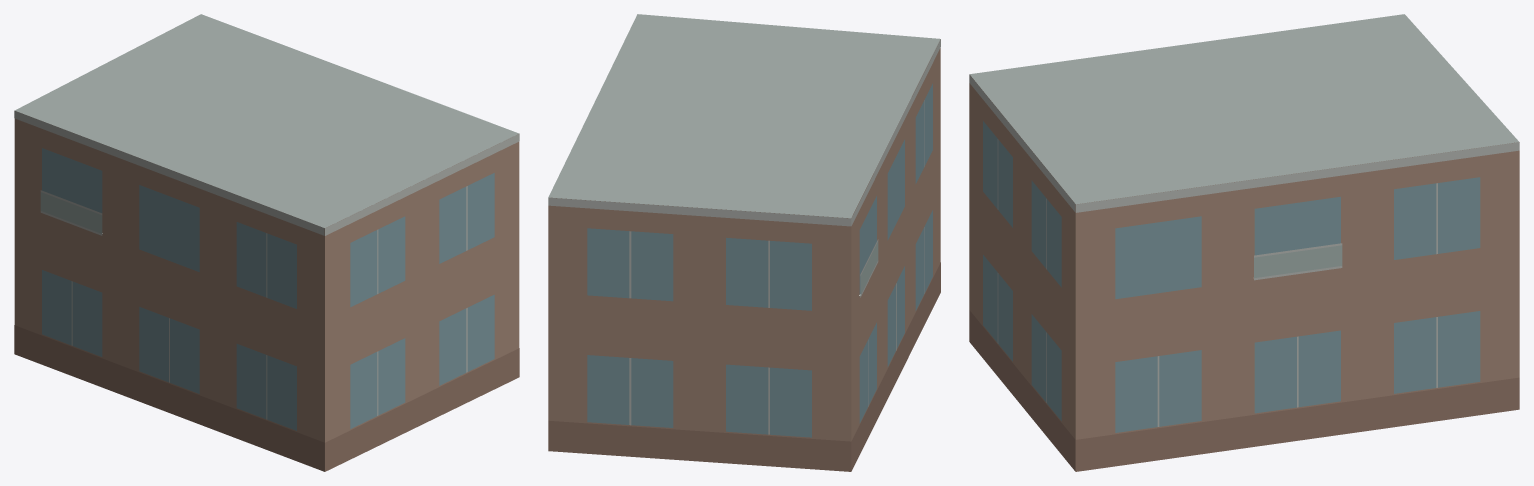
The model's file is survey-upis-32658511.glb.
The picture shows the model from 3 angles, left to right: view 1: azimuth 30°, elevation 25°; view 2: azimuth 150°, elevation 25°; view 3: azimuth 270°, elevation 25°; orthographic projection. The views are drawn at different scales.
Visible parts, largest first — view 1: survey-upis-32658511.tmp; view 2: survey-upis-32658511.tmp; view 3: survey-upis-32658511.tmp.
Boxes of the visible parts, left/top/right/bottom form: survey-upis-32658511.tmp: left=14, top=14, right=519, bottom=471; survey-upis-32658511.tmp: left=548, top=14, right=940, bottom=471; survey-upis-32658511.tmp: left=969, top=14, right=1519, bottom=471.
Size of the model in its own units: 11.61 by 7.6 by 14.17.
